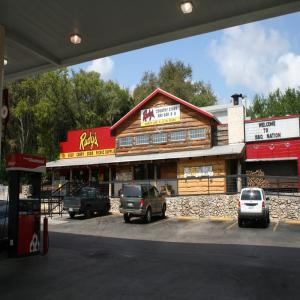Vehicle-registration-plate: (250, 206, 254, 209), (130, 205, 134, 206)
